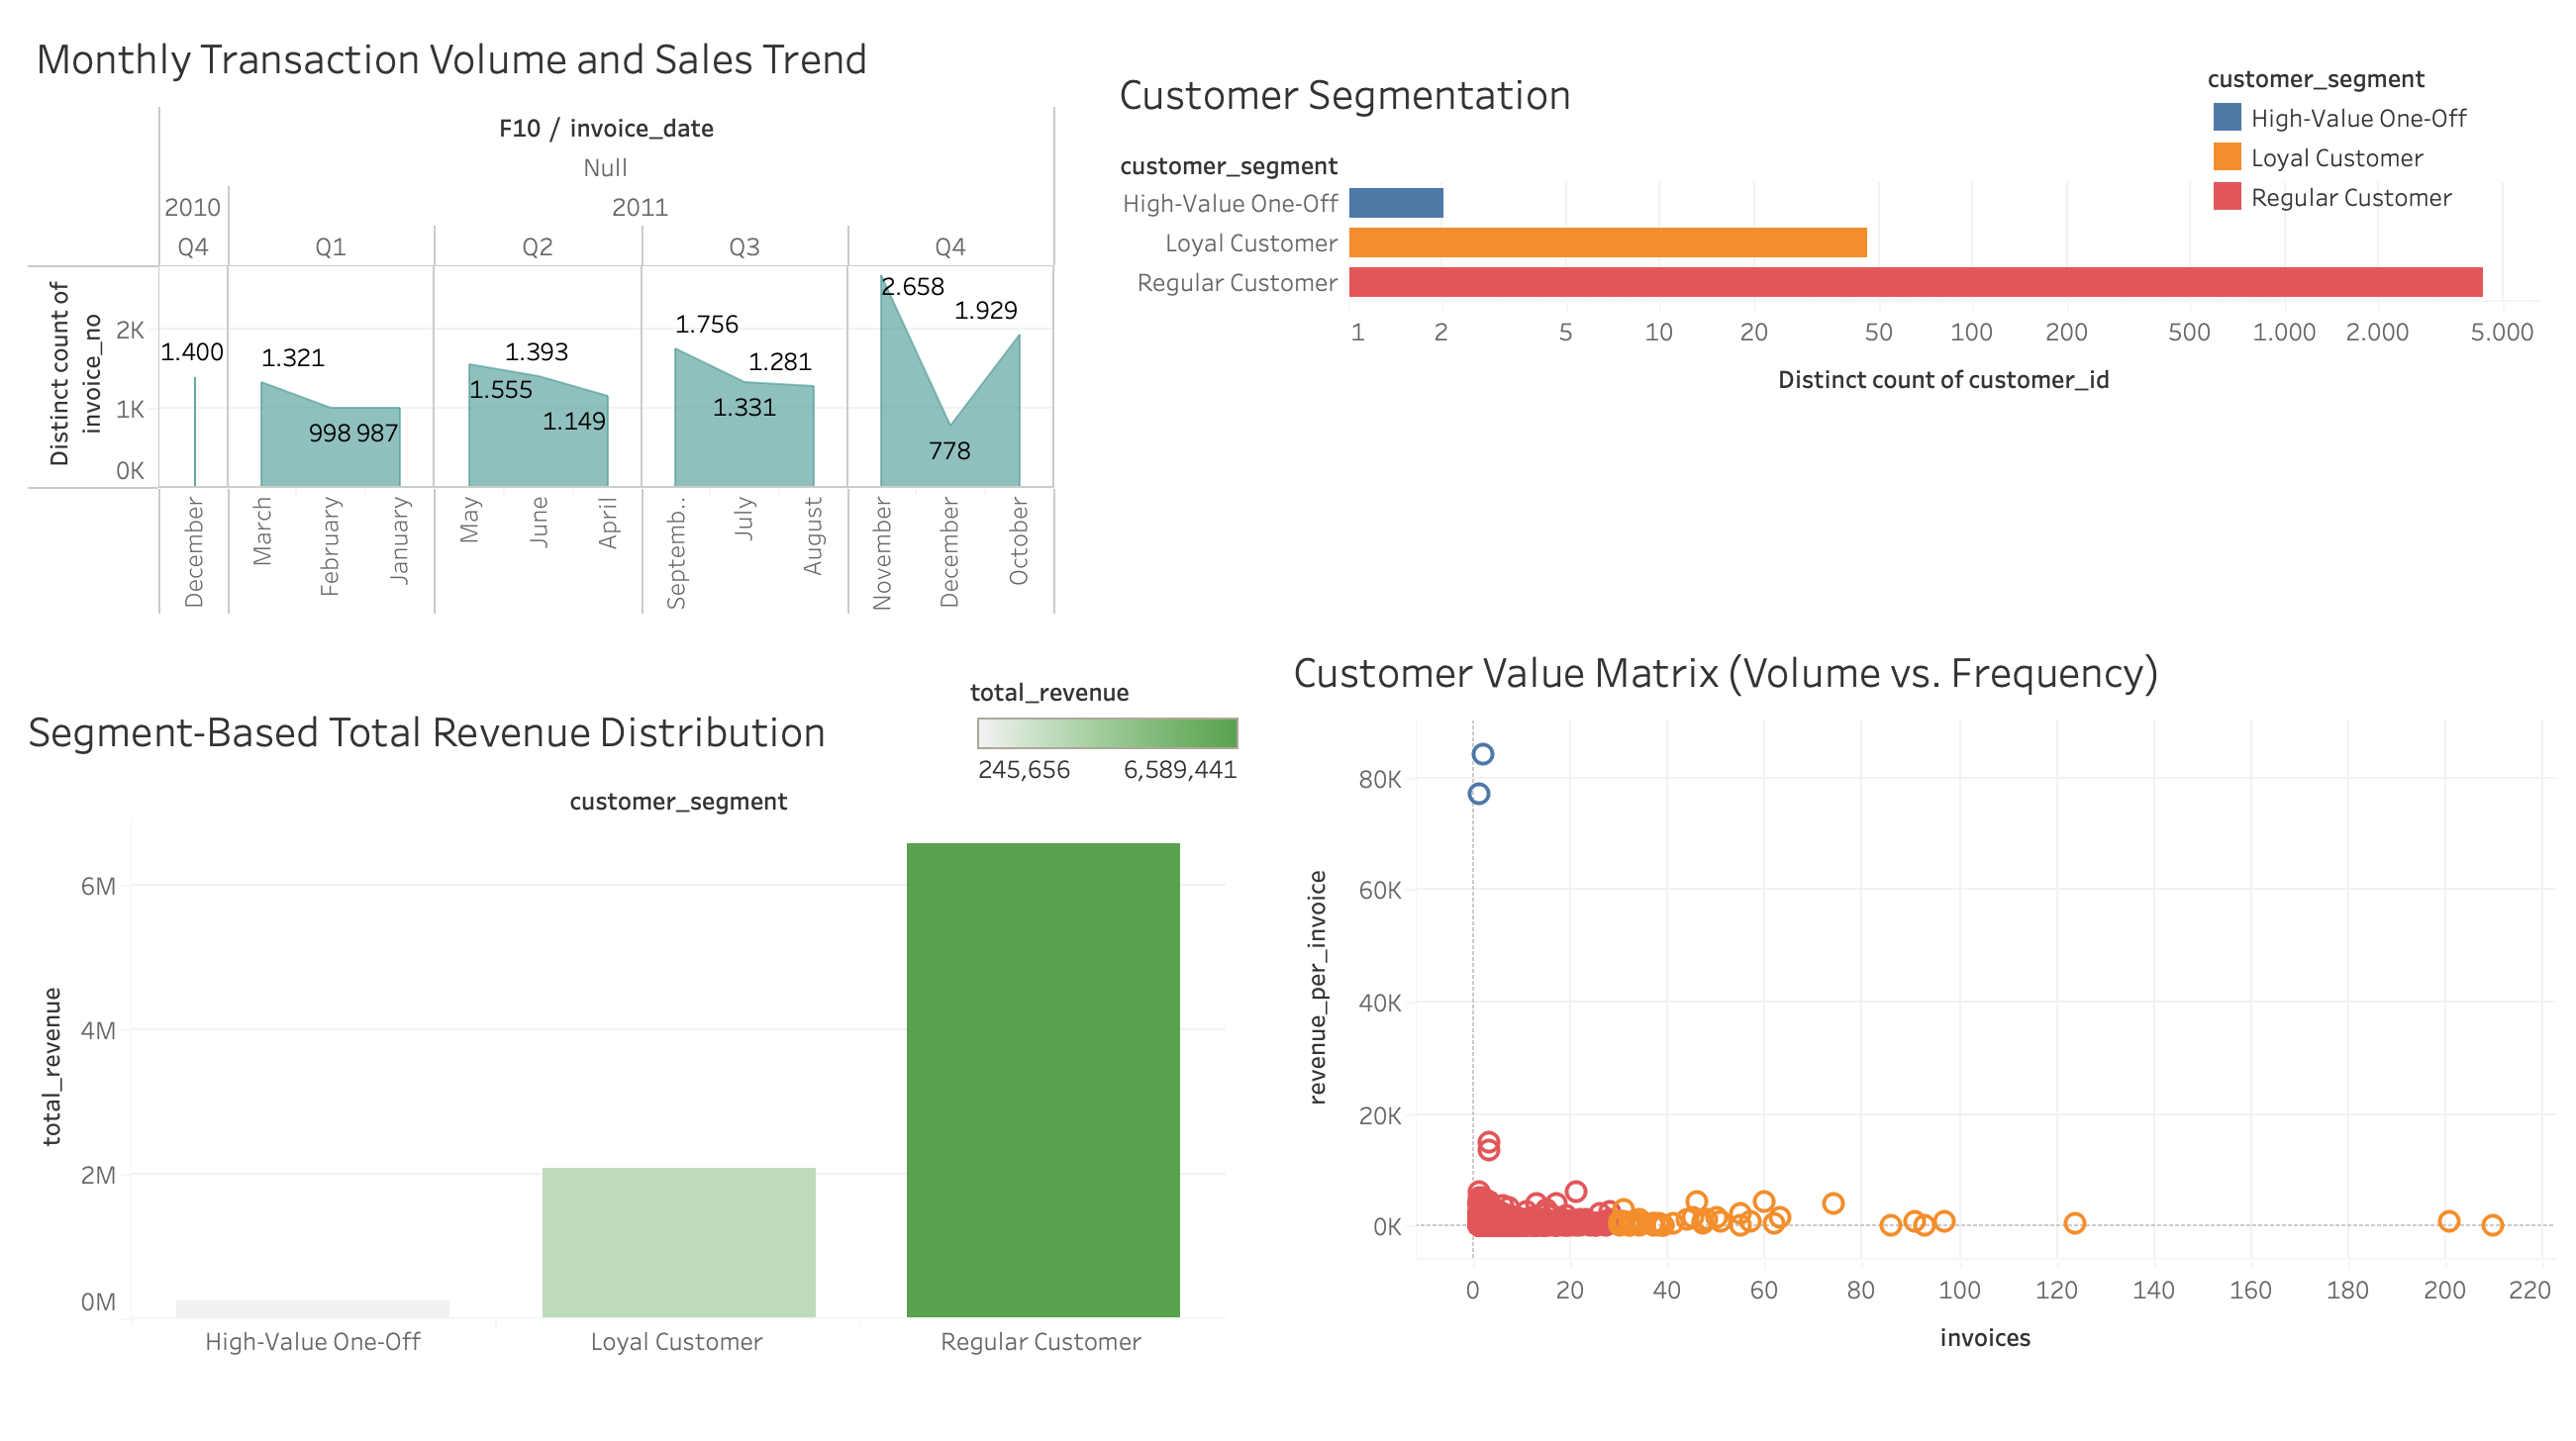

What the dashboard file says about the page in this screenshot:
{"tool":"tableau","page":{"name":"Dashboard 1","canvas":[1301,730],"ordinal":0},"visuals":[{"type":"worksheet","title":"Monthly Transaction Volume and Sales Trend","mark":"Area","rows":["F1"],"cols":["F10","F7","F7","F7"],"box":[14,12,520,301]},{"type":"worksheet","title":"Customer Segmentation","mark":"Automatic","rows":["F5"],"cols":["F1"],"box":[561,30,722,266]},{"type":"legend","title":"Customer Segmentation","param":"[federated.0ppm7f617mur5212nxtx30axbua2].[none:F5:nk]","box":[1115,32,140,78]},{"type":"worksheet","title":"Customer Value Matrix (Volume vs. Frequency)","mark":"Automatic","rows":["F4"],"cols":["F2"],"box":[649,322,642,370]},{"type":"legend","title":"Segment-Based Total Revenue Distribution","param":"[federated.0ppm7f617mur5212nxtx30axbua2].[sum:F3:qk]","box":[490,342,140,76]},{"type":"worksheet","title":"Segment-Based Total Revenue Distribution","mark":"Automatic","rows":["F3"],"cols":["F5"],"box":[10,352,609,355]}]}

Visuals, with their boxes in screenshot pixels (x1, y1, x2, y2), scaled from the page's 1301x730 canvas onto the 2576x1441 screenshot:
"Monthly Transaction Volume and Sales Trend" worksheet (Area marks): <bbox>28, 24, 1057, 618</bbox>
"Customer Segmentation" worksheet: <bbox>1111, 59, 2540, 584</bbox>
"Customer Segmentation" legend: <bbox>2208, 63, 2485, 217</bbox>
"Customer Value Matrix (Volume vs. Frequency)" worksheet: <bbox>1285, 635, 2556, 1366</bbox>
"Segment-Based Total Revenue Distribution" legend: <bbox>970, 675, 1247, 825</bbox>
"Segment-Based Total Revenue Distribution" worksheet: <bbox>20, 695, 1226, 1395</bbox>
